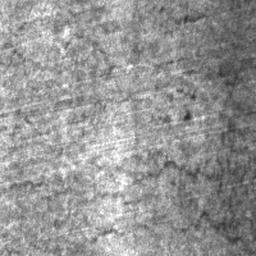Crazing: (2, 0, 256, 255), (0, 109, 64, 158), (229, 0, 241, 12), (249, 8, 256, 16)
